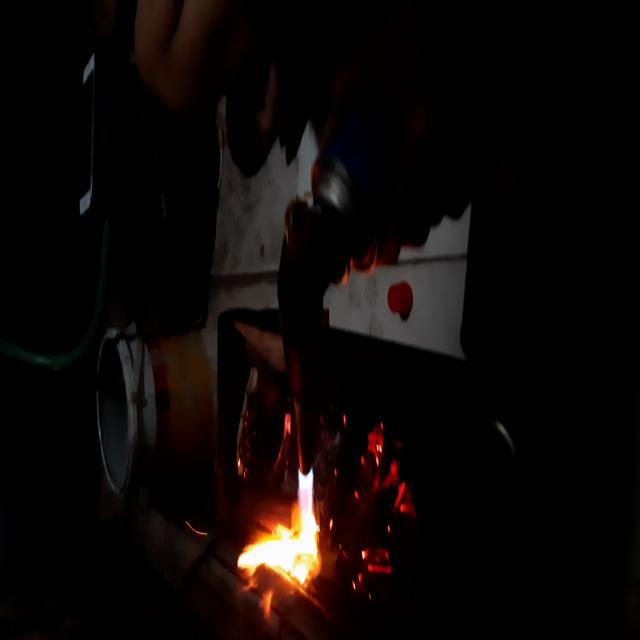Fire: (231, 453, 328, 606), (343, 403, 418, 592)
